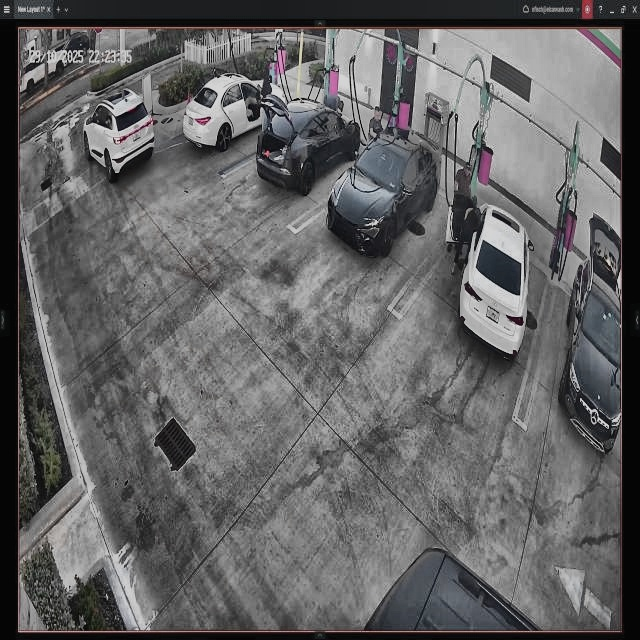Car: (329, 126, 440, 256), (452, 188, 531, 360), (260, 92, 360, 200), (183, 68, 285, 156), (79, 91, 157, 181)
